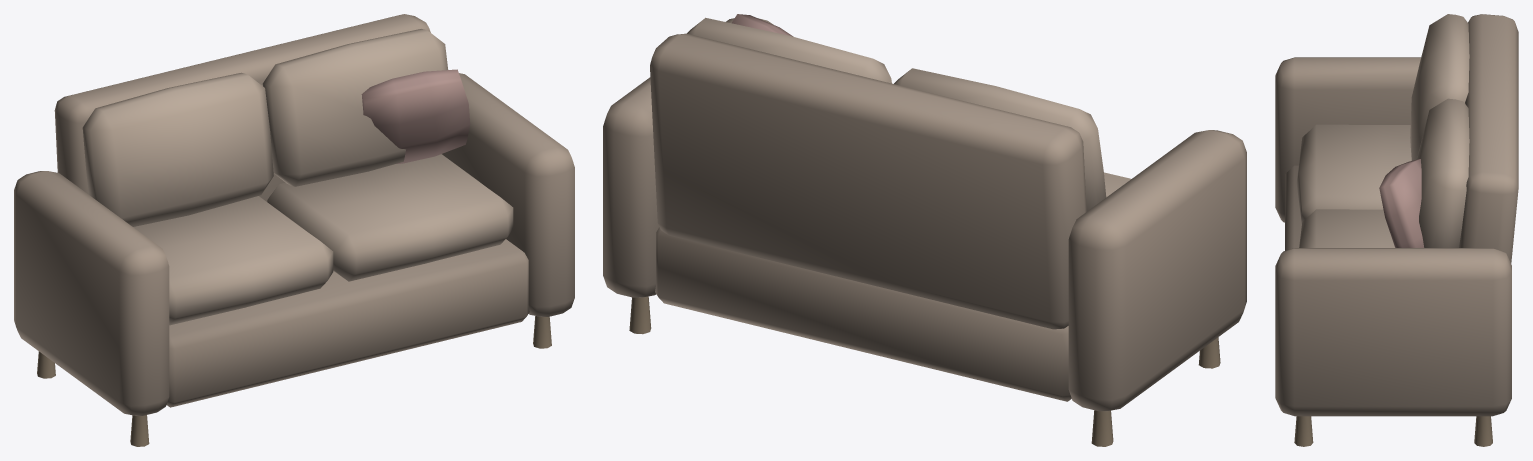
The model's file is sofa.glb.
3 views of the same model, side by side, from view 1: azimuth 30°, elevation 25°; view 2: azimuth 150°, elevation 25°; view 3: azimuth 270°, elevation 25° (orthographic). The views are drawn at different scales.
Parts seen in each view (by area): view 1: furn_sofa; view 2: furn_sofa; view 3: furn_sofa.
Boxes of the visible parts, box(x1,y1,x2,y2) form: furn_sofa: box(14, 14, 574, 446); furn_sofa: box(603, 14, 1246, 446); furn_sofa: box(1275, 14, 1518, 446).
Bounding box in the file's own units: 1.6 × 0.9092 × 0.7706.
